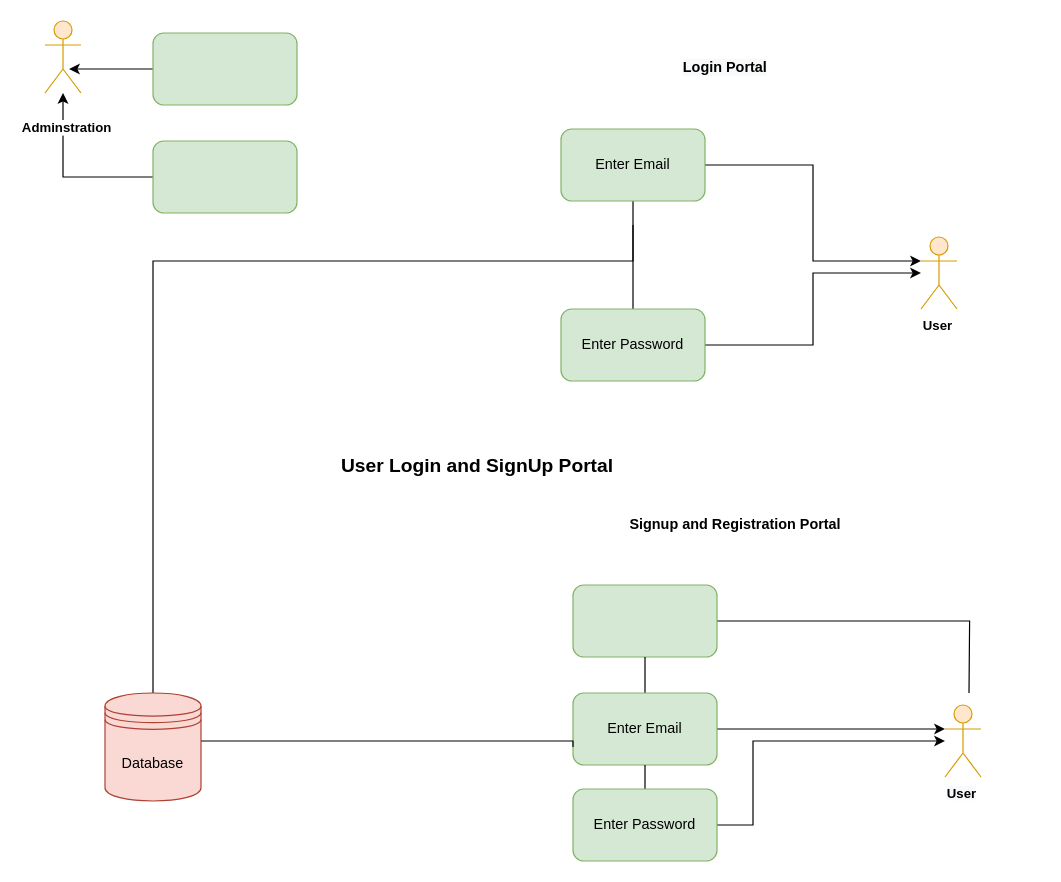
The diagram is 1061 pixels wide and 882 high, and some of its shapes have lost their labels. The centre of each missing label's shape, as x and y in pixels:
"Enter UserName" goes at pixel 644 620.
"Logout" goes at pixel 224 176.
"View Profile" goes at pixel 224 68.
